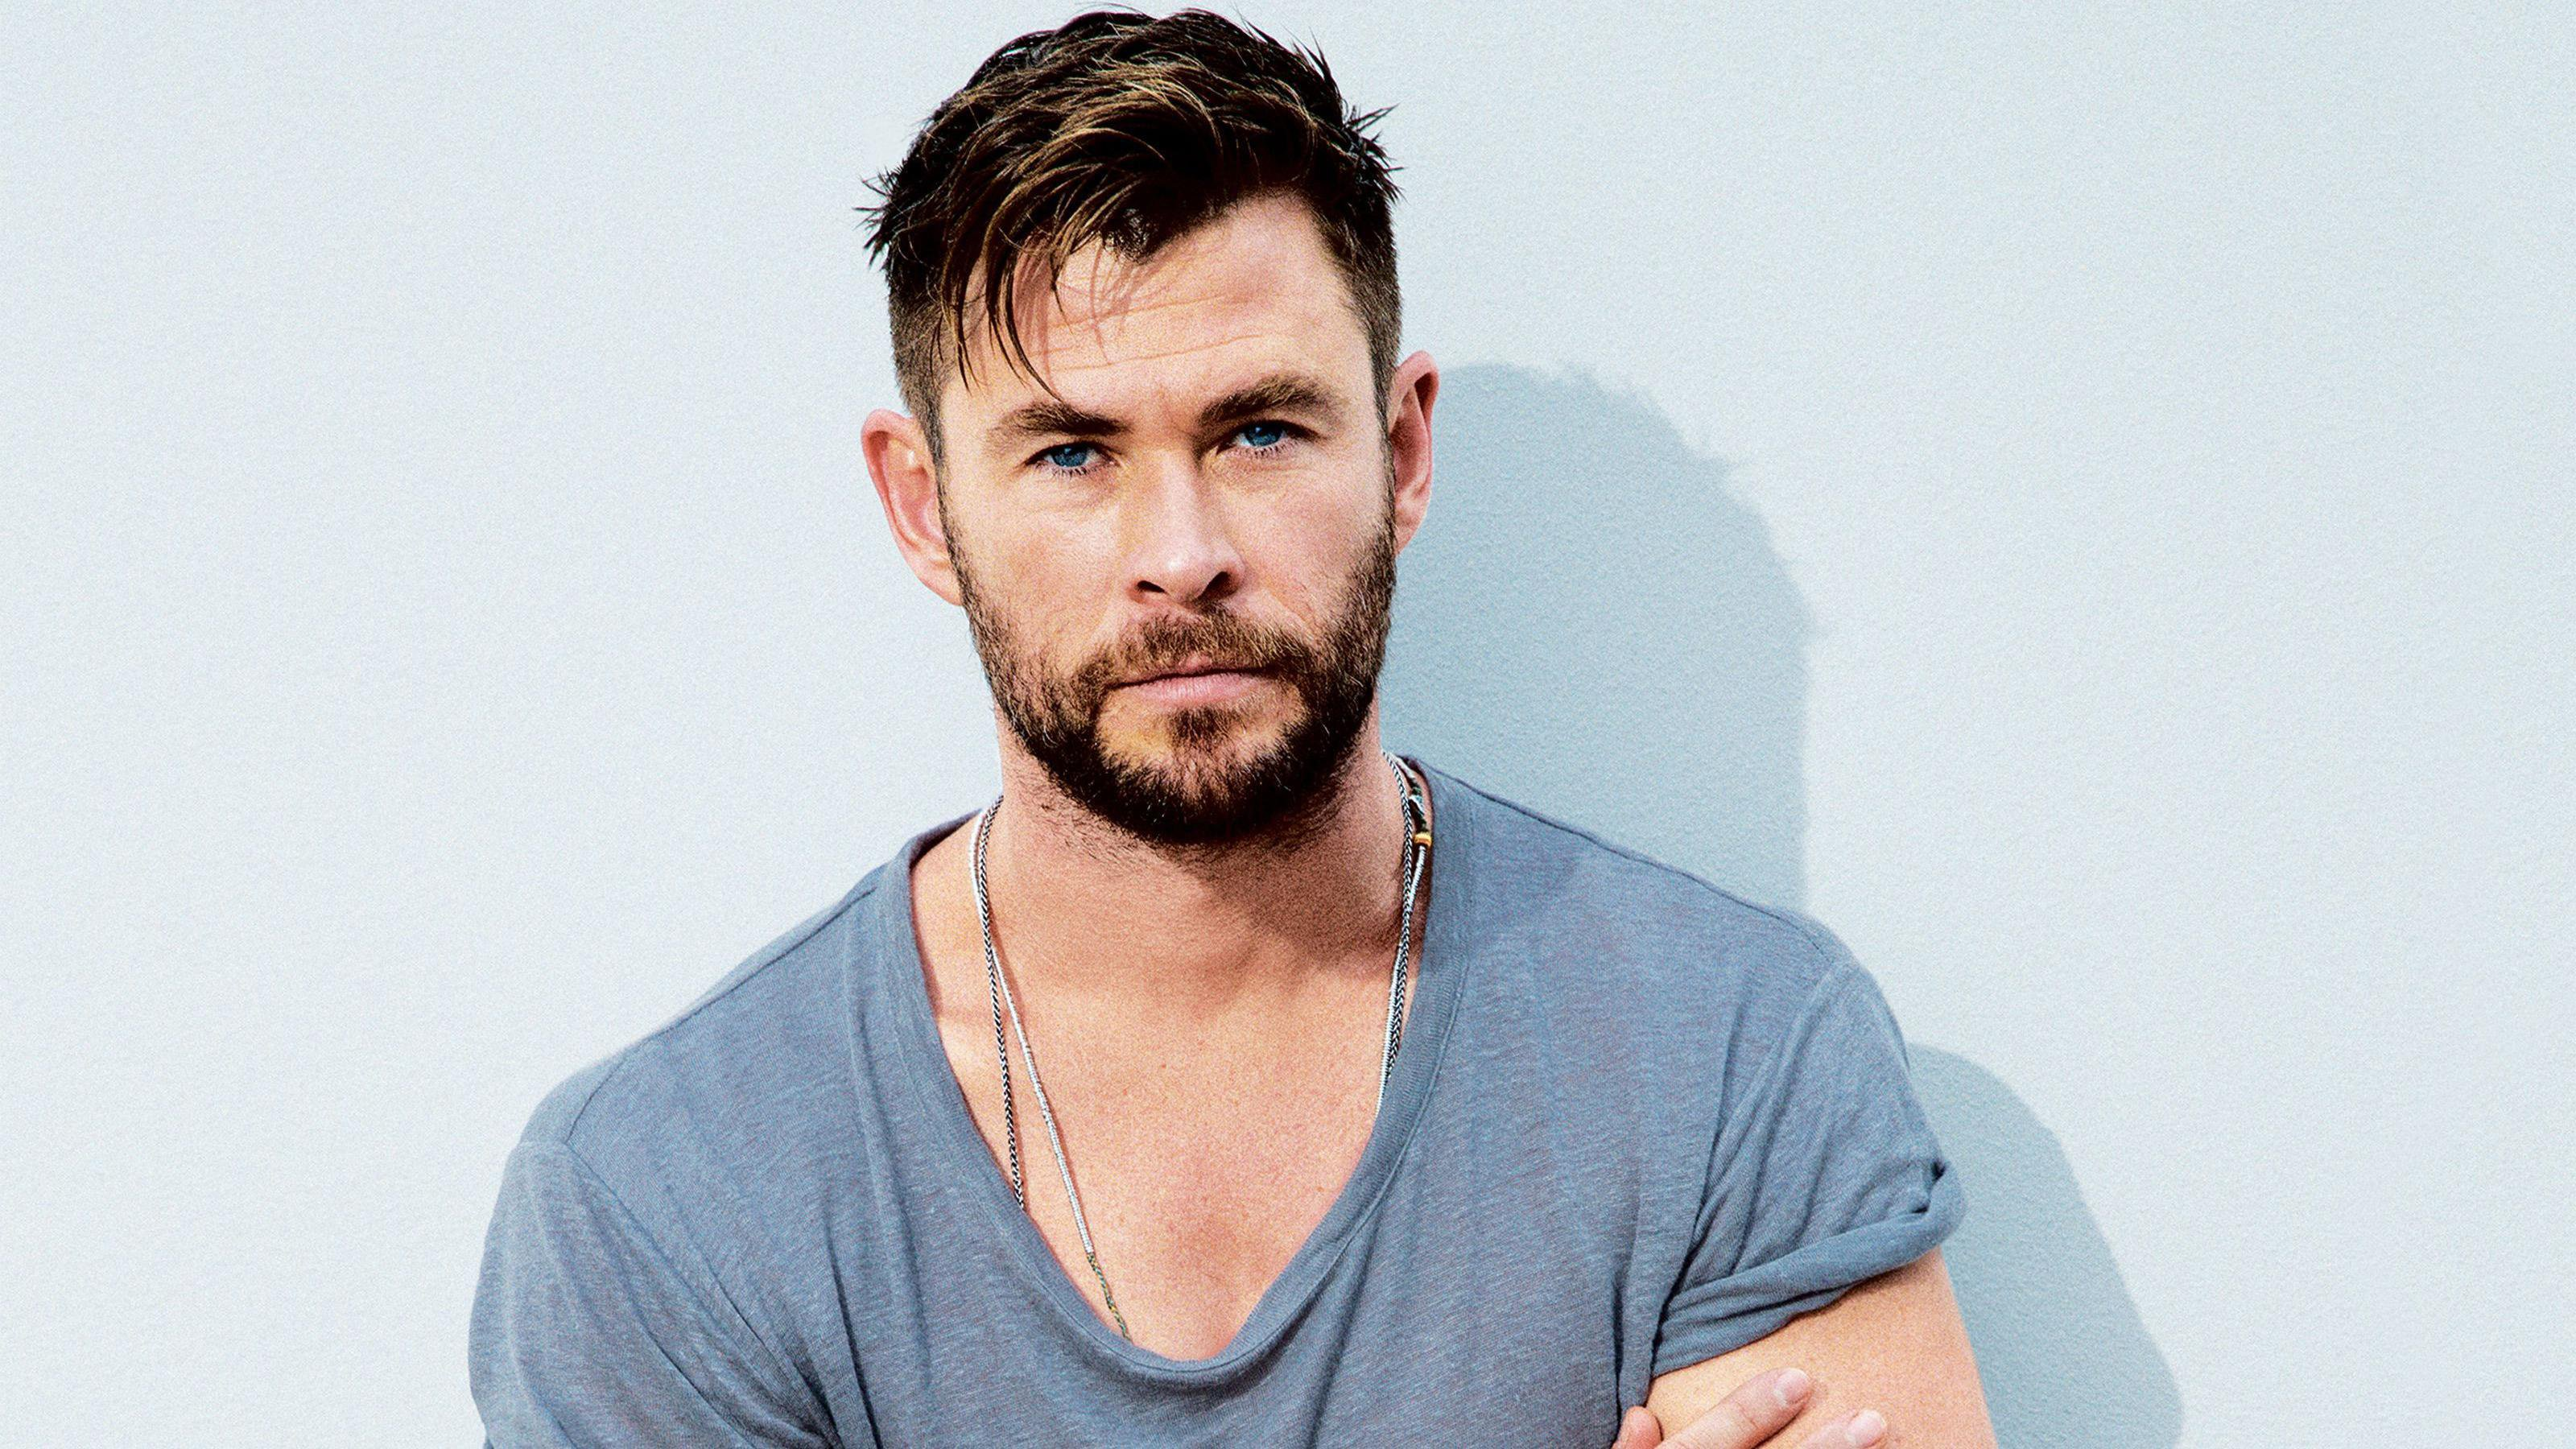noMask: (803, 6, 1469, 864)
